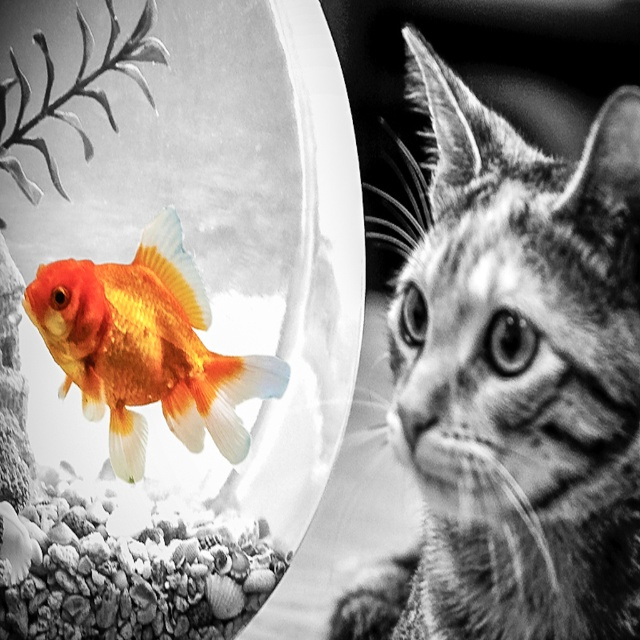Goldfish: (24, 199, 291, 478)
